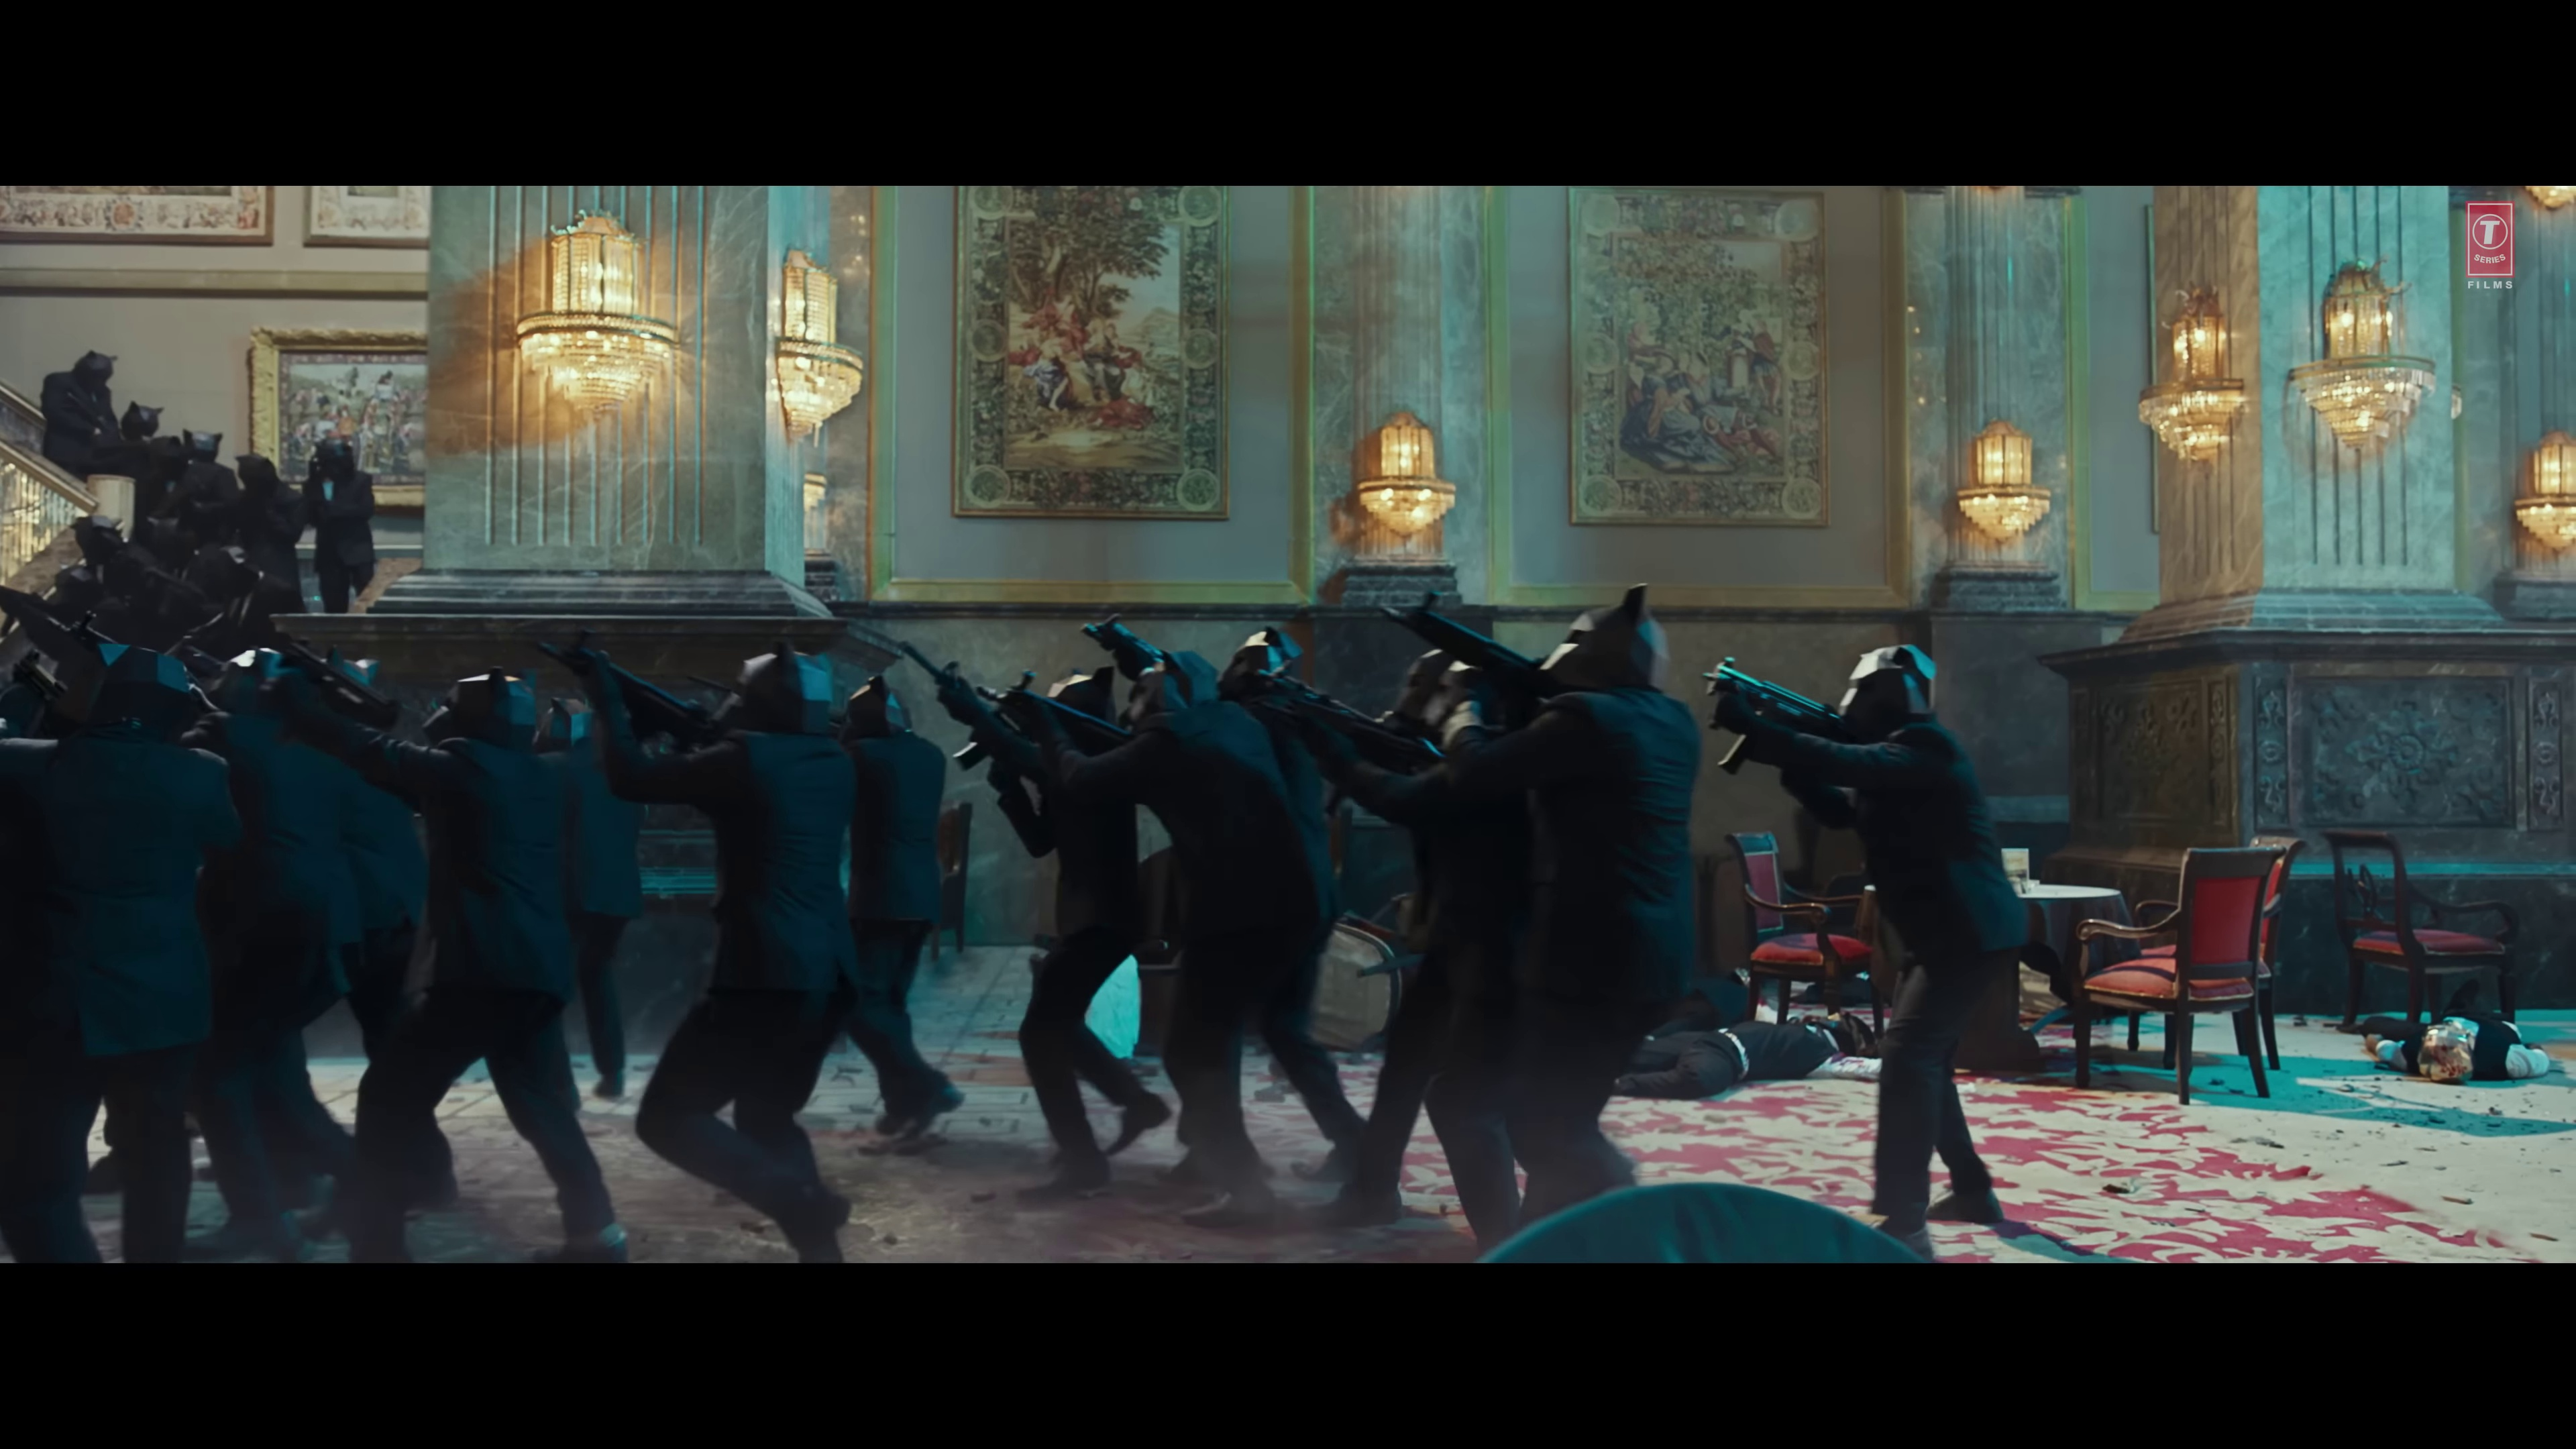gun: (1380, 586, 1575, 729), (1240, 663, 1453, 789), (540, 632, 722, 755), (1697, 653, 1861, 771), (895, 639, 1019, 773), (973, 665, 1148, 759), (272, 635, 400, 731), (1081, 607, 1178, 702), (64, 391, 111, 433)
p_w_gun: (267, 628, 626, 1270), (1371, 580, 1711, 1231), (534, 628, 865, 1269), (1695, 628, 2029, 1246), (1079, 602, 1373, 1228), (1242, 628, 1530, 1223), (893, 639, 1177, 1219), (41, 349, 126, 474)
p_wo_gun_not_carrying_normal_pose: (1596, 1012, 1886, 1097), (2357, 971, 2551, 1092), (299, 433, 380, 607)
